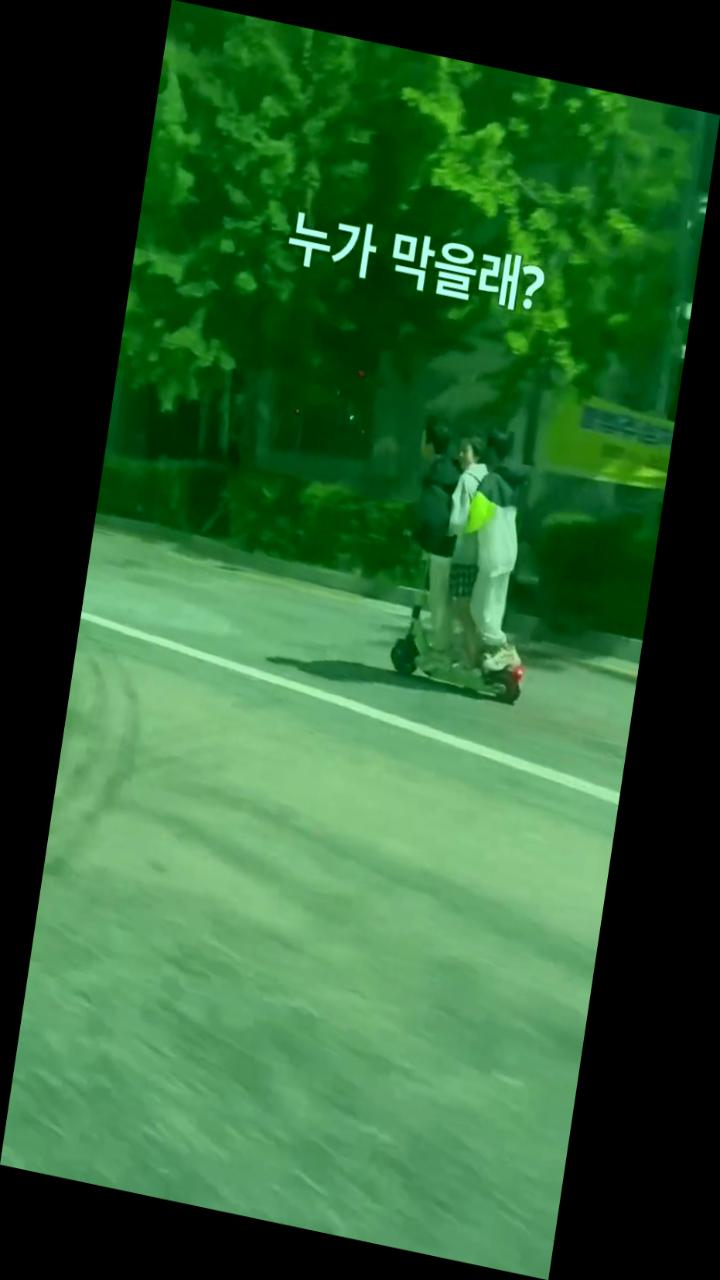multiple: (372, 403, 565, 706)
